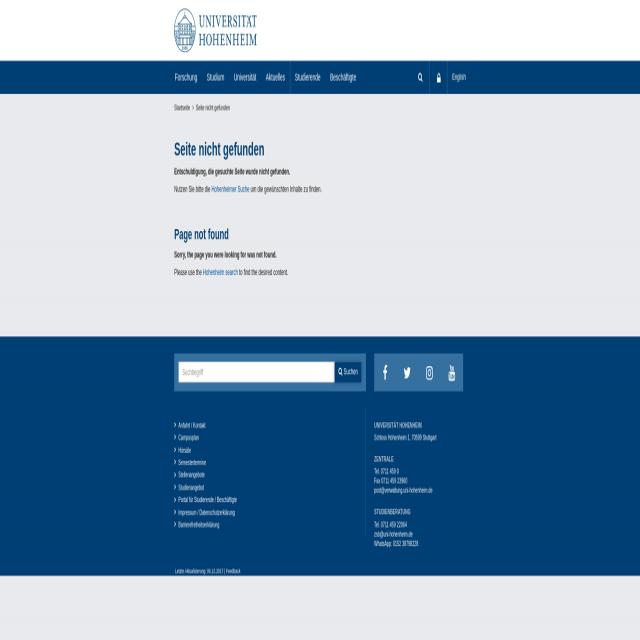button: (174, 8, 257, 52), (290, 61, 326, 93), (325, 61, 361, 93), (170, 61, 202, 93), (229, 61, 261, 93), (261, 61, 290, 93), (418, 353, 442, 391), (396, 352, 419, 390), (202, 61, 229, 93), (441, 352, 463, 390), (374, 353, 396, 391), (448, 61, 470, 93), (430, 61, 448, 93), (334, 362, 362, 382), (412, 61, 429, 93)
field: (179, 362, 335, 382)
